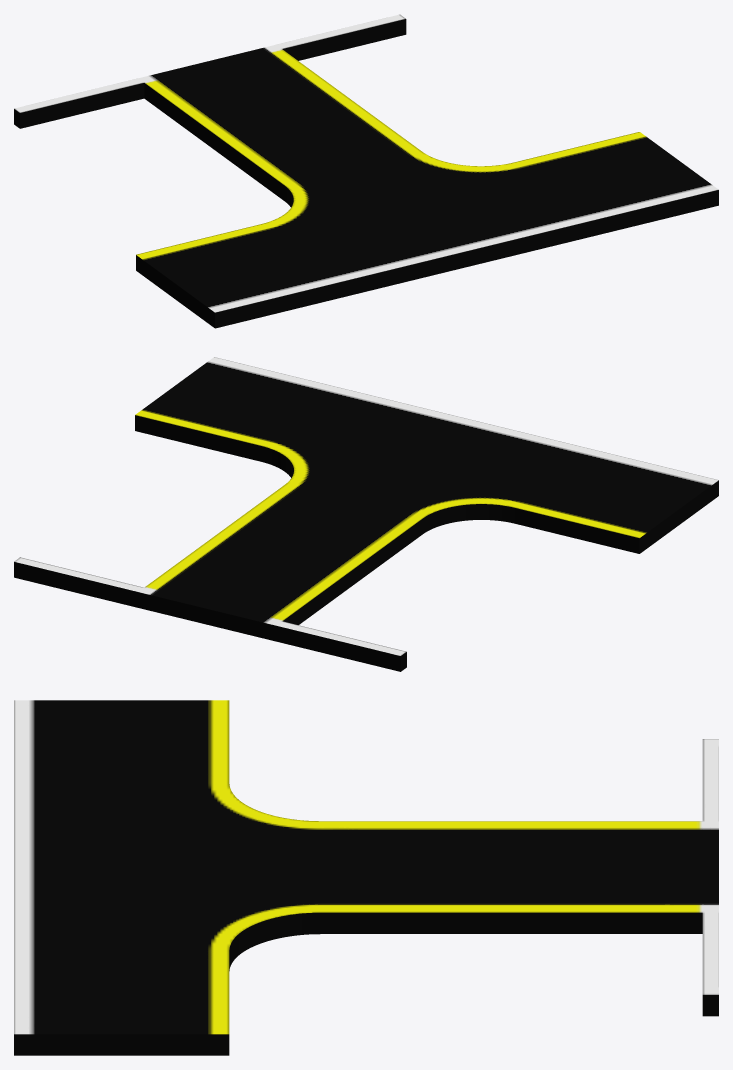
File: Panel_R04_C02__Road_00.dae
3 views of the same model, one above another, from view 1: azimuth 30°, elevation 25°; view 2: azimuth 150°, elevation 25°; view 3: azimuth 270°, elevation 25° (orthographic). The views are drawn at different scales.
Parts seen in each view (by area): view 1: Object; view 2: Object; view 3: Object.
Part boxes in pixels (bbox=[...]): Object: bbox=[14, 14, 718, 328]; Object: bbox=[14, 357, 718, 671]; Object: bbox=[14, 700, 718, 1055].
Bounding box in the file's own units: 0.999 × 0.8908 × 0.03.
2 materials, 1 textured.
